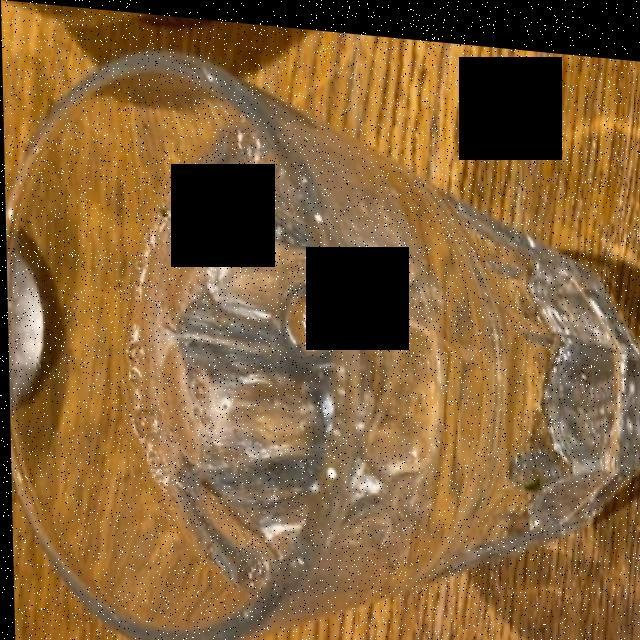water: (118, 128, 636, 600)
